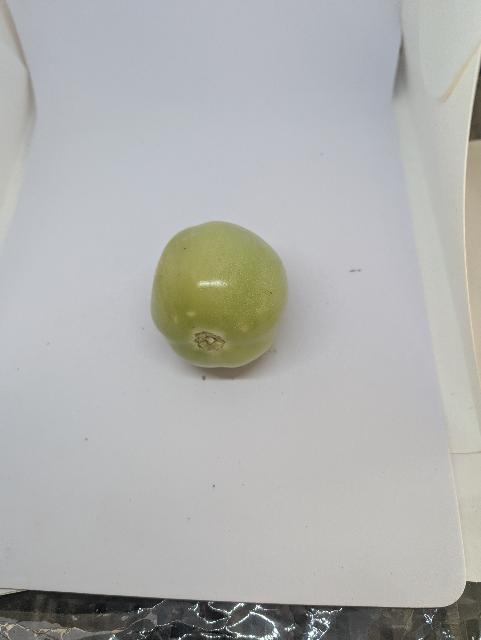green: (150, 219, 289, 370)
